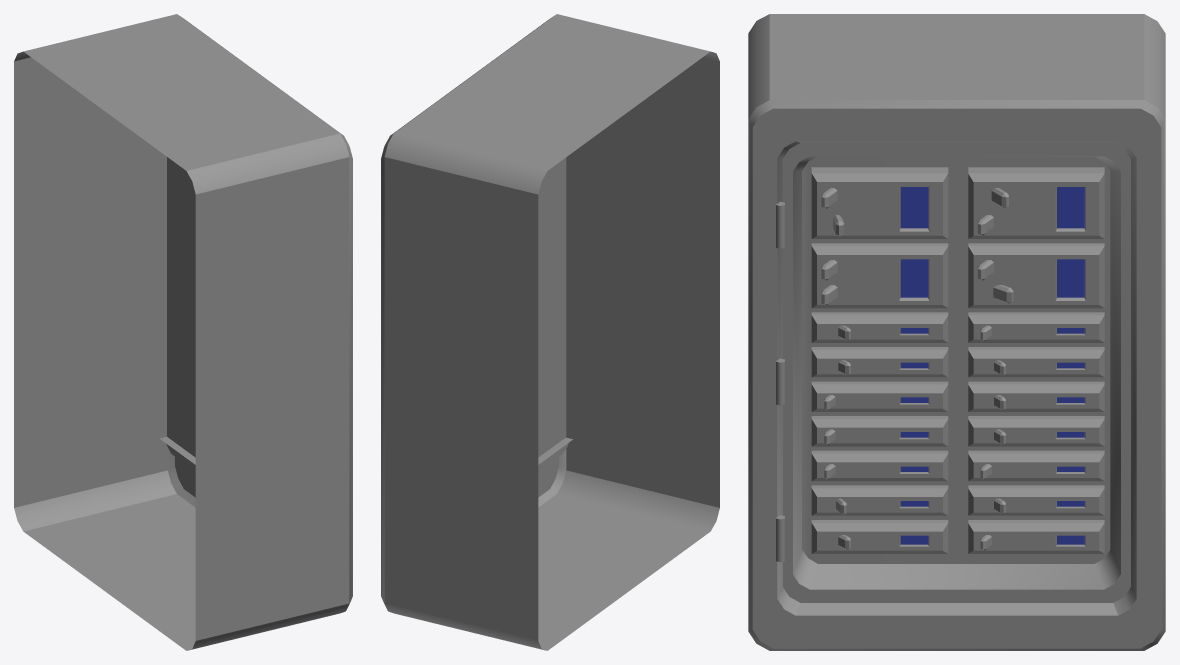
File: fuze_box.fbx
3 renders of one model, left to right at view 1: azimuth 30°, elevation 25°; view 2: azimuth 150°, elevation 25°; view 3: azimuth 270°, elevation 25°, orthographic. The views are drawn at different scales.
Visible parts, largest first — view 1: fuze_box; view 2: fuze_box; view 3: fuze_box.
Part boxes in pixels (x1,y1,x2,y2): fuze_box: [14, 14, 352, 650]; fuze_box: [381, 14, 719, 650]; fuze_box: [748, 14, 1165, 650].
Bounding box in the file's own units: 29.13 × 82.09 × 56.33.
